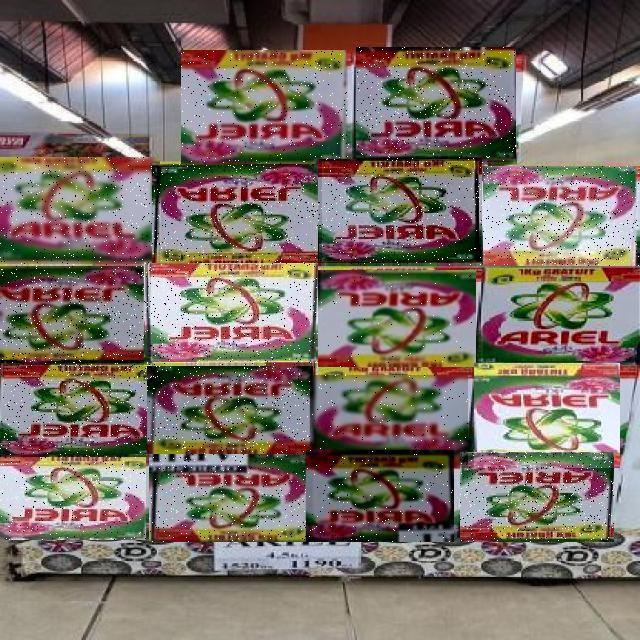Detergent: (182, 50, 350, 164), (356, 48, 516, 164), (144, 264, 318, 366), (318, 160, 482, 266), (152, 165, 322, 267), (0, 158, 160, 266), (484, 166, 640, 266), (474, 363, 620, 468), (318, 270, 476, 367), (483, 266, 639, 362), (0, 266, 151, 365), (0, 360, 152, 457), (310, 375, 468, 468), (147, 366, 313, 454), (149, 455, 313, 543), (460, 452, 614, 542), (306, 450, 454, 542), (0, 457, 146, 540)
